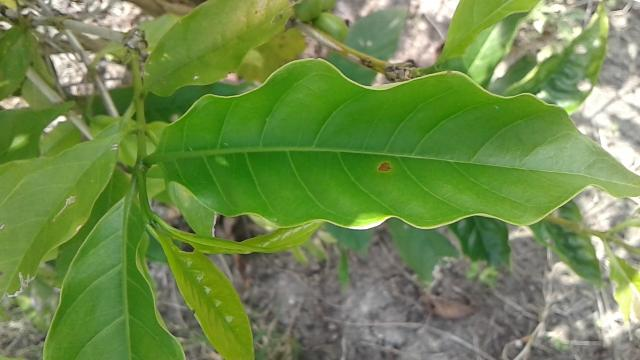rust_level_1: (155, 55, 640, 236)
